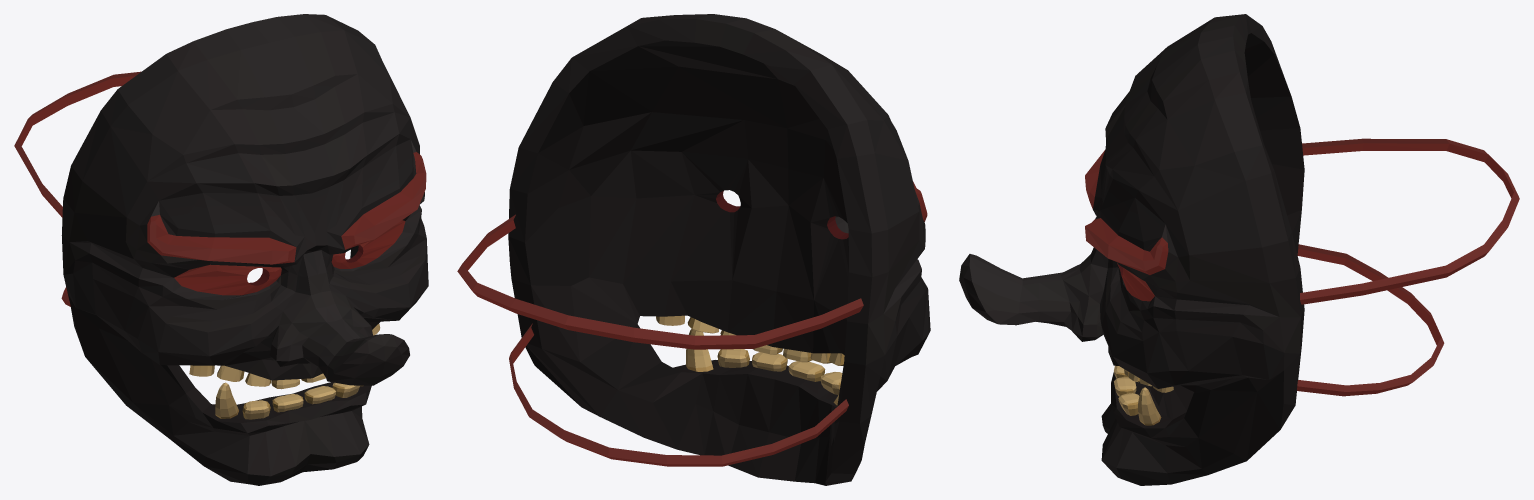
File: tenguMaskBlackFemale.glb
3 views of the same model, side by side, from view 1: azimuth 30°, elevation 25°; view 2: azimuth 150°, elevation 25°; view 3: azimuth 270°, elevation 25° (orthographic). The views are drawn at different scales.
Visible parts, largest first — view 1: tenguMaskBlackFemale; view 2: tenguMaskBlackFemale; view 3: tenguMaskBlackFemale.
Part boxes in pixels (<box>): tenguMaskBlackFemale: <box>14,14,428,485</box>; tenguMaskBlackFemale: <box>457,14,930,485</box>; tenguMaskBlackFemale: <box>959,14,1519,485</box>.
Size of the model in its own units: 0.2804 by 0.3395 by 0.4077.
